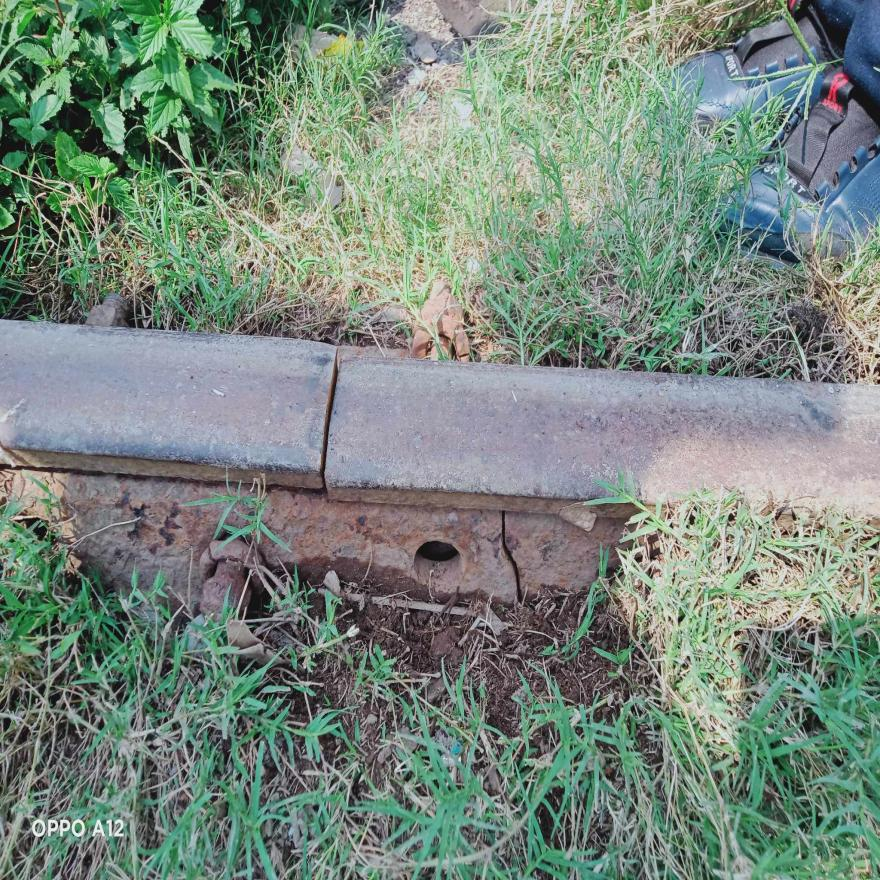railway-gap: (256, 314, 406, 518), (460, 489, 563, 634)
